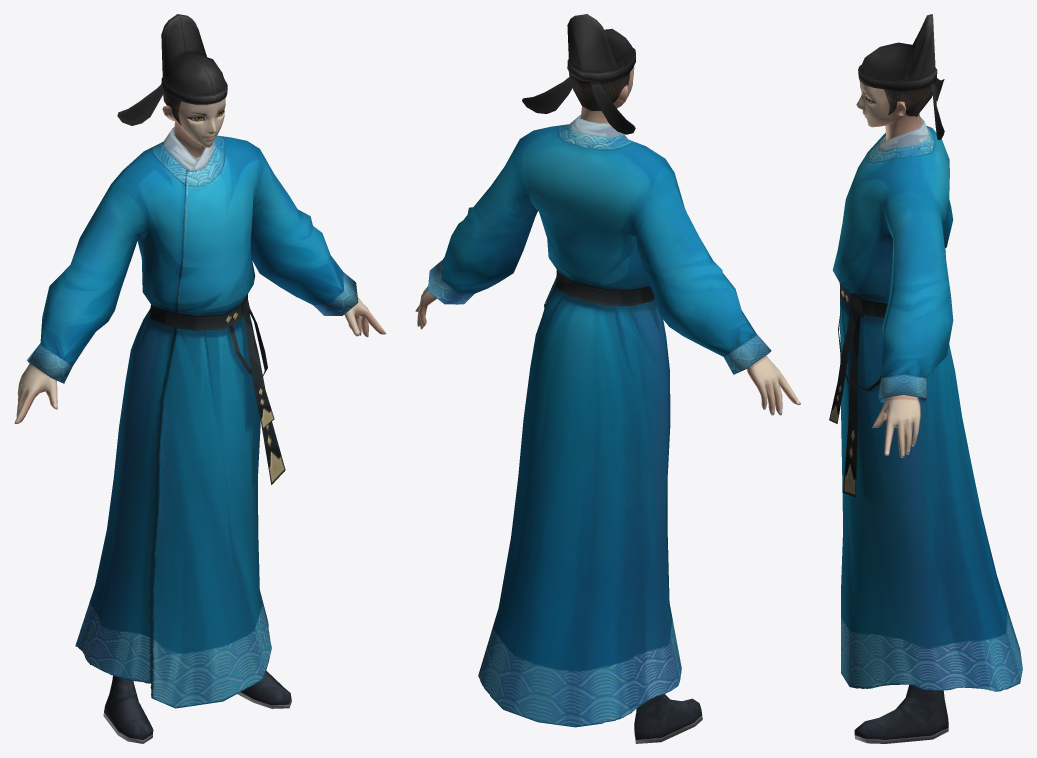
3 views of the same model, side by side, from view 1: azimuth 30°, elevation 25°; view 2: azimuth 150°, elevation 25°; view 3: azimuth 270°, elevation 25° (orthographic). The views are drawn at different scales.
Visible parts, largest first — view 1: SS1; view 2: SS1; view 3: SS1.
Boxes of the visible parts, x1,y1,x2,y2 form: SS1: (14,14,386,743); SS1: (415,14,800,743); SS1: (829,14,1022,743).
Size of the model in its own units: 0.9704 by 1.71 by 0.4352.
Materials: 2 (2 with a texture image).
